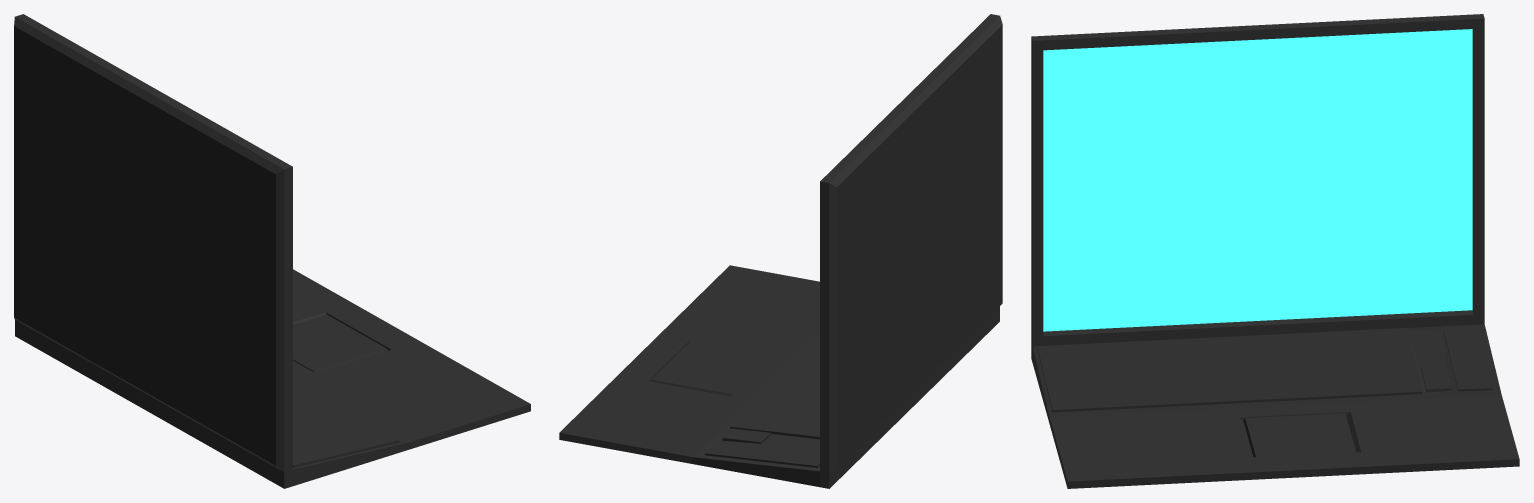
File: Monitor_Laptop.fbx
3 views of the same model, side by side, from view 1: azimuth 30°, elevation 25°; view 2: azimuth 150°, elevation 25°; view 3: azimuth 270°, elevation 25° (orthographic). The views are drawn at different scales.
Visible parts, largest first — view 1: Keyboard.019; view 2: Keyboard.019; view 3: Keyboard.019.
Part boxes in pixels (box(x1,y1,x2,y2)): Keyboard.019: box(14, 14, 530, 488); Keyboard.019: box(559, 14, 1002, 488); Keyboard.019: box(1031, 14, 1519, 488).
Size of the model in its own units: 51.93 by 50.42 by 69.23.
